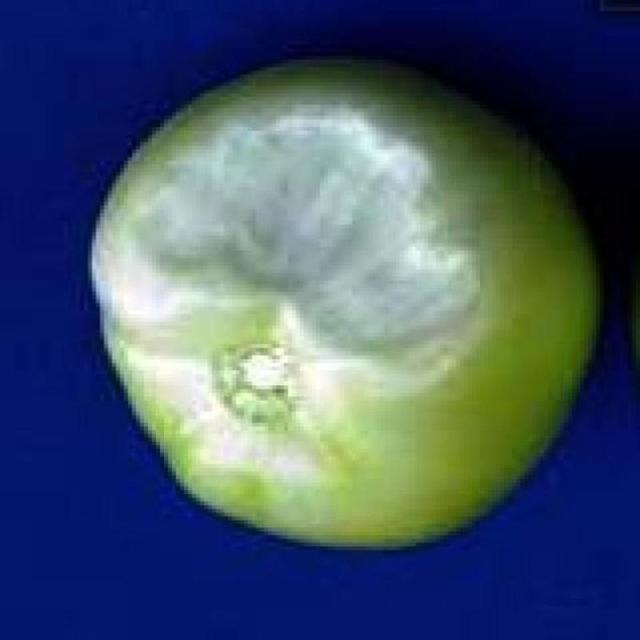Sunscald Fruit: (153, 83, 253, 290)
